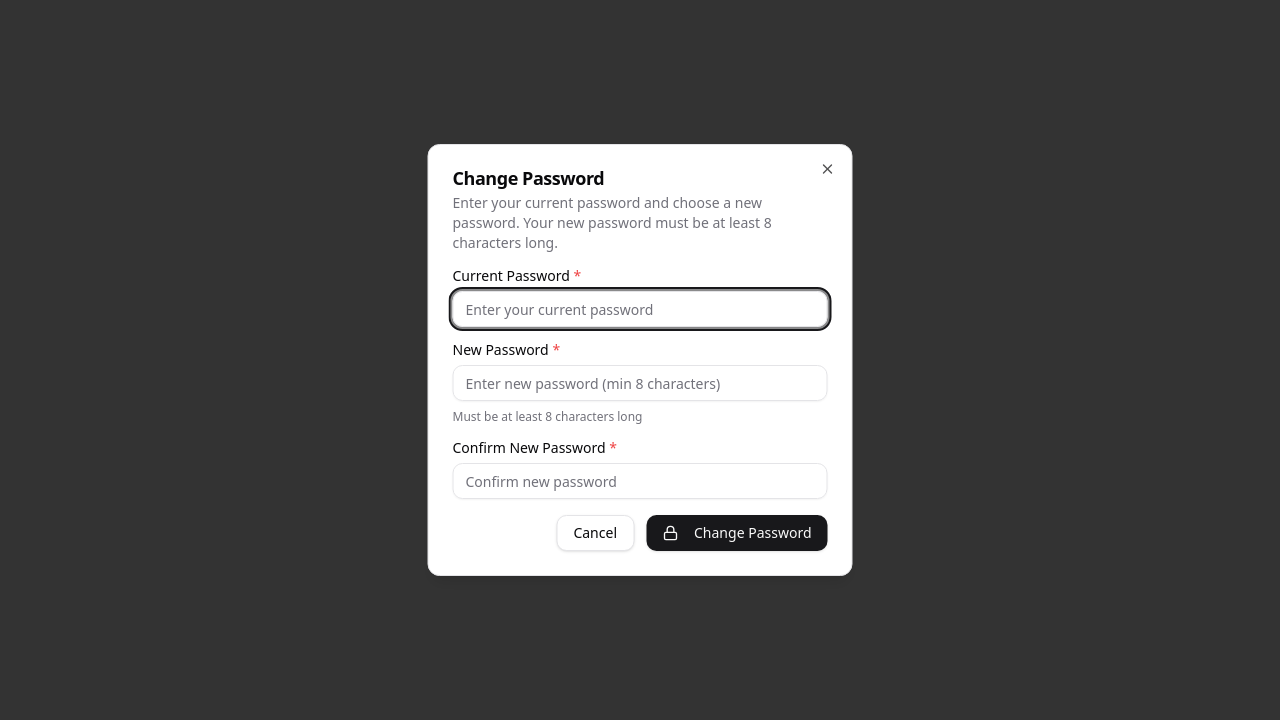
Scenario: ChangePasswordDialog › validates new password is different from current
Type "samepassword" into the password field with id "current-password". click: {"x": 640, "y": 309}
box: [452, 291, 828, 327]
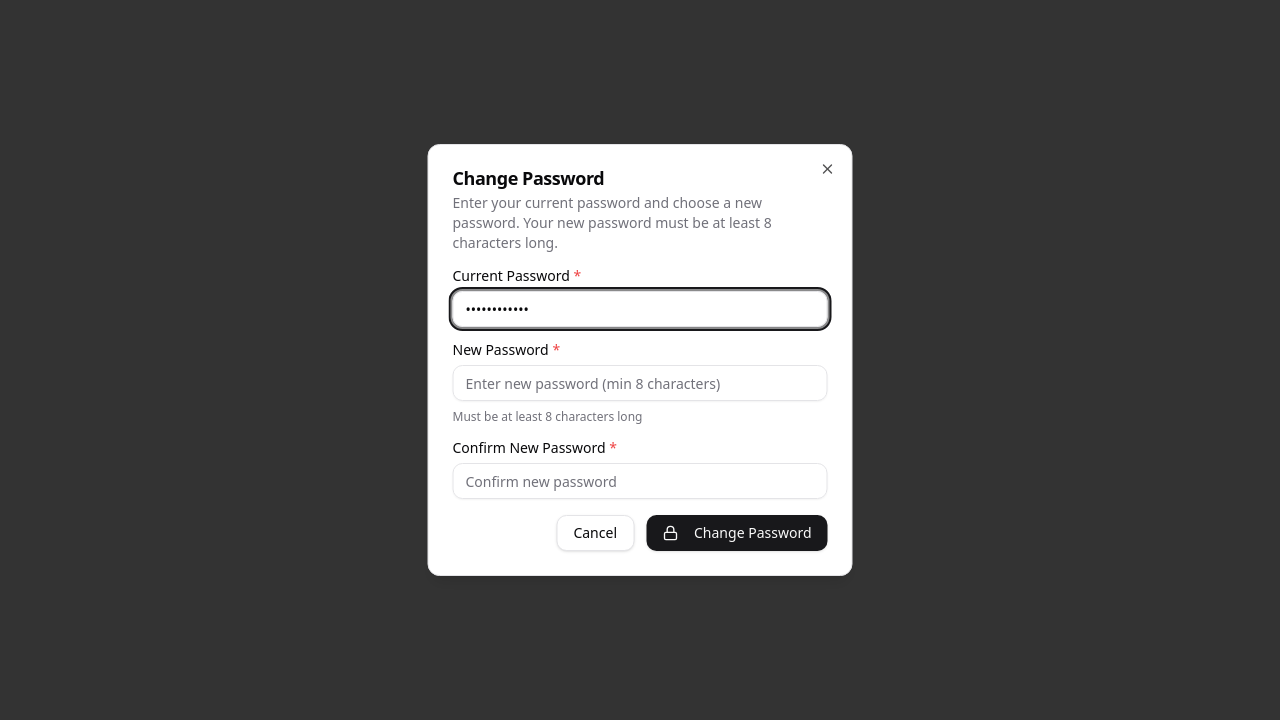
Type "samepassword" into the password field with id "new-password". click: {"x": 640, "y": 383}
box: [452, 365, 828, 401]
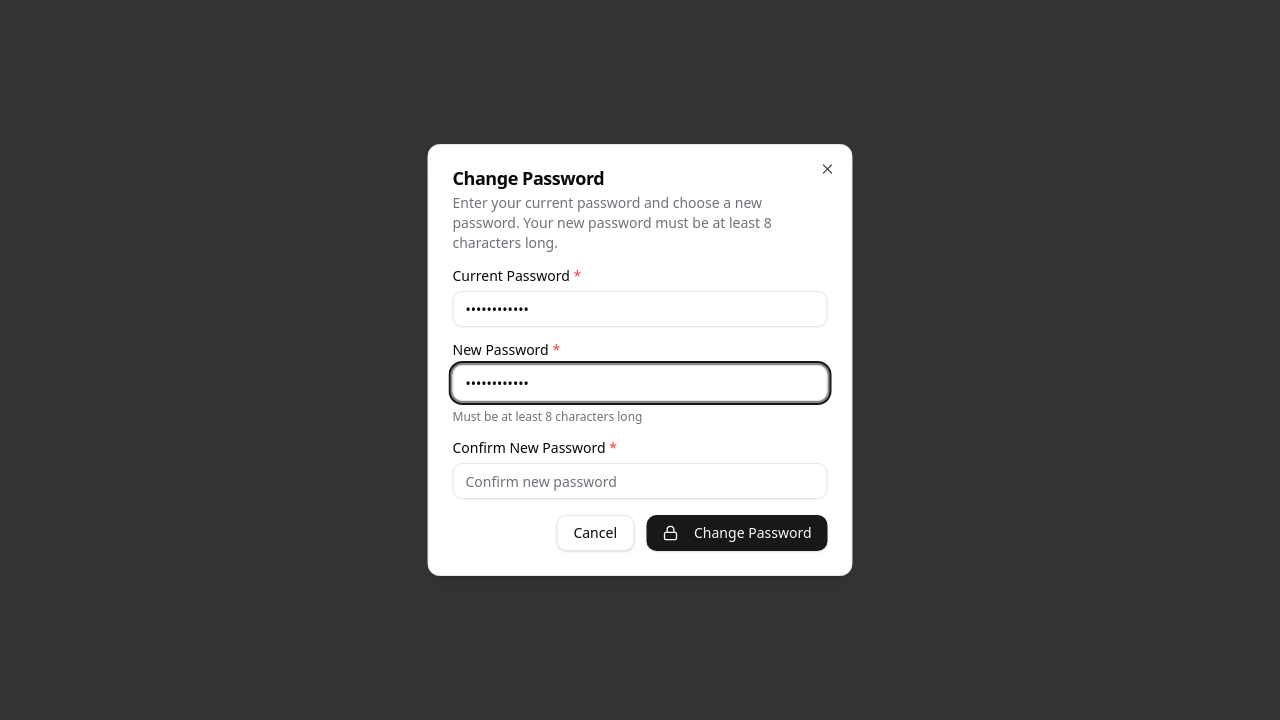
Type "samepassword" into the password field with id "confirm-password". click: {"x": 640, "y": 481}
box: [452, 463, 828, 499]
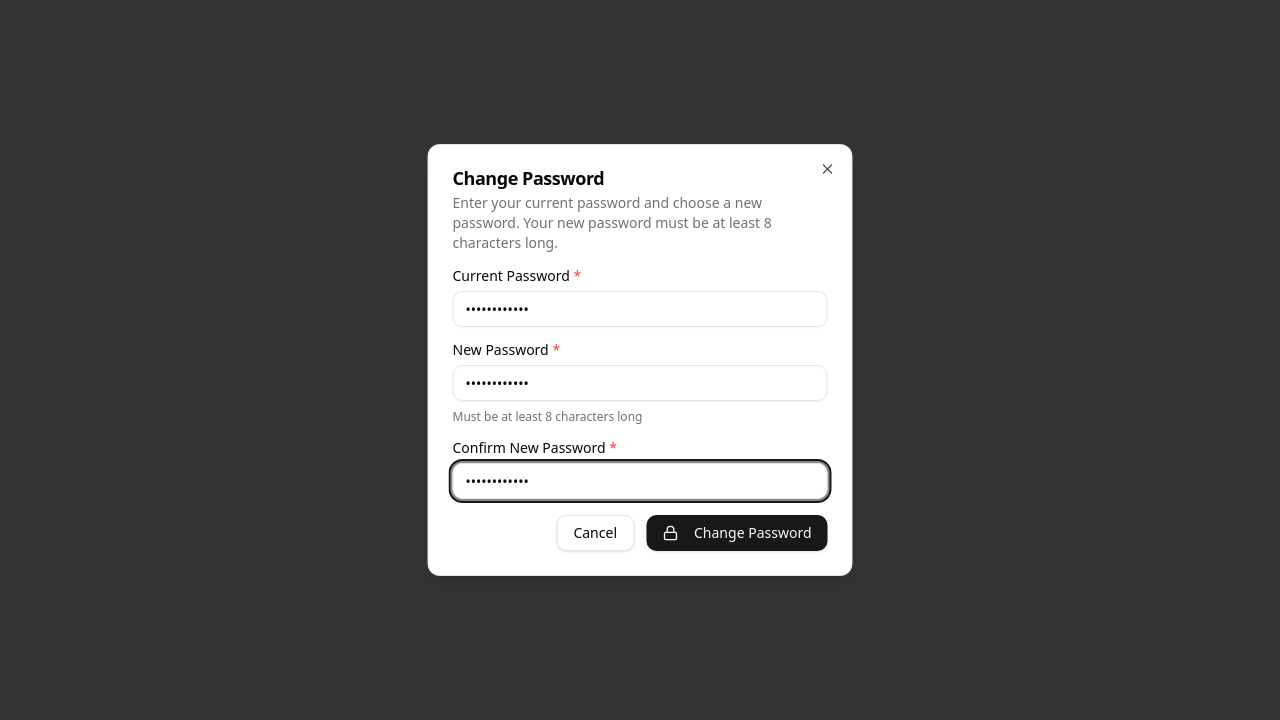
Click the button "Change Password". click: {"x": 737, "y": 533}
box: [646, 515, 828, 551]
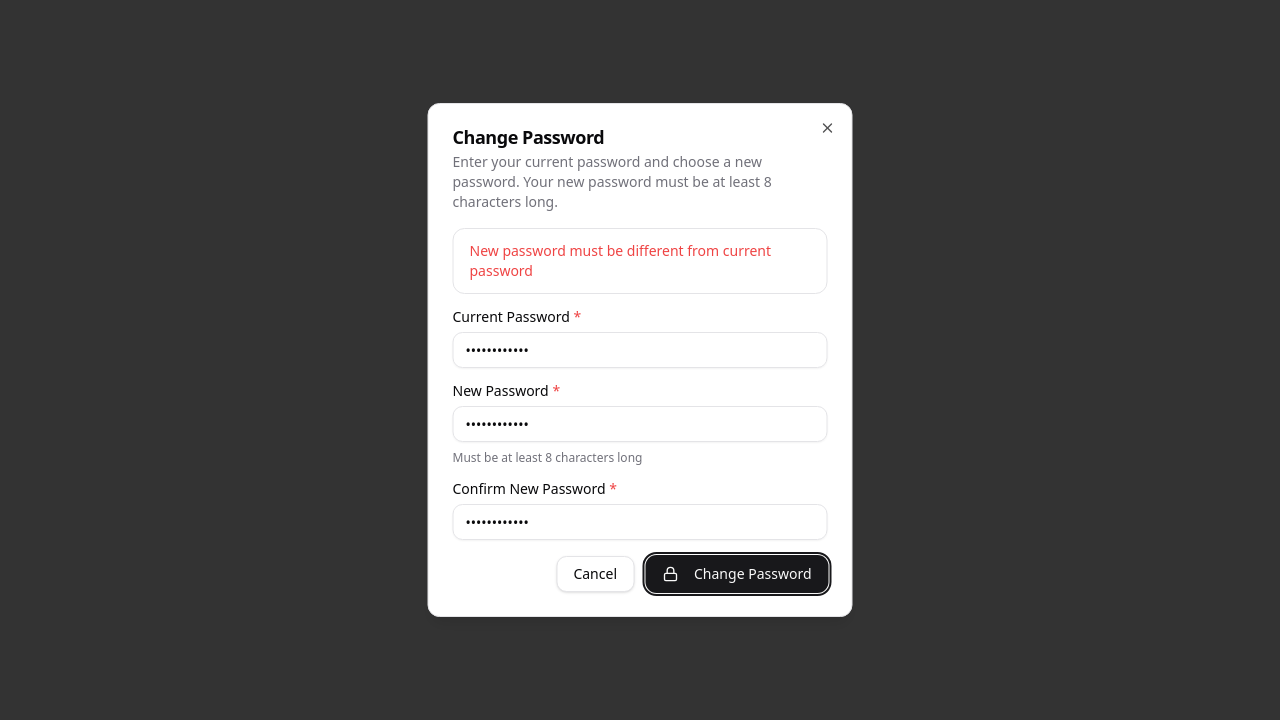
Expected: the text "New password must be different from current password" is shown, [470, 241, 810, 281]
